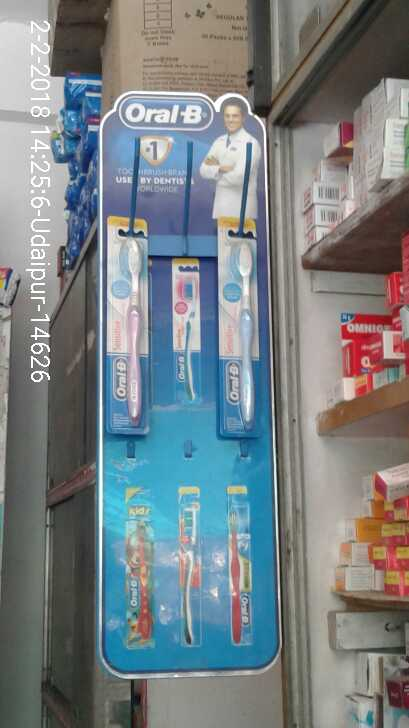oralb: (102, 205, 153, 437), (218, 215, 266, 441)
